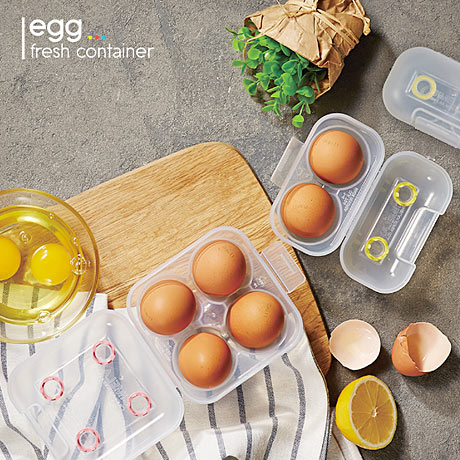egg: (142, 241, 284, 388), (284, 131, 364, 241)
